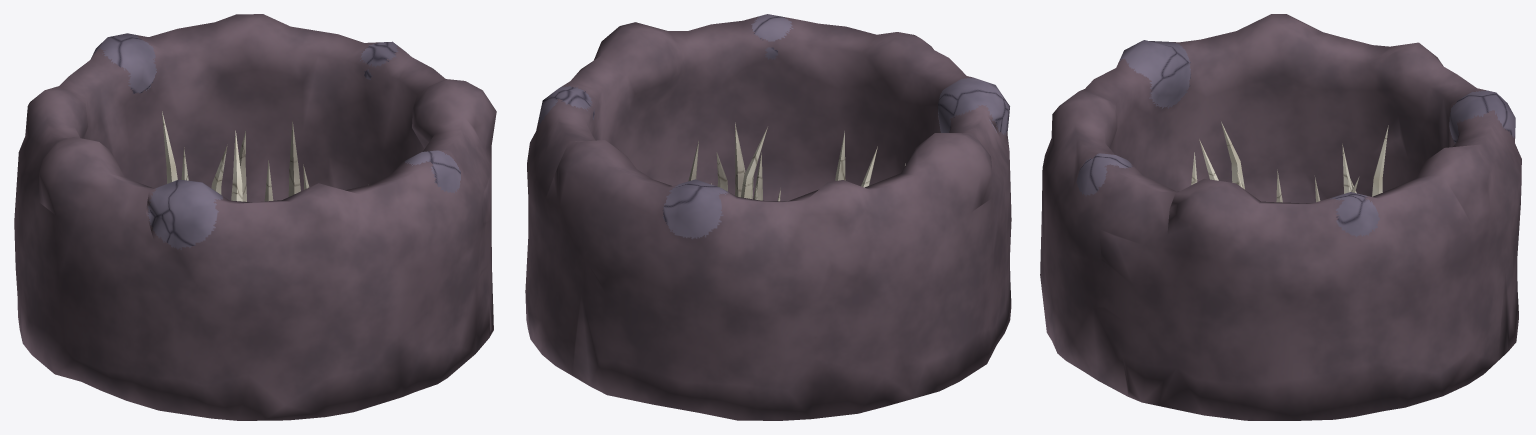
Rendered from trampa_foso.fbx.
3 renders of one model, left to right at view 1: azimuth 30°, elevation 25°; view 2: azimuth 150°, elevation 25°; view 3: azimuth 270°, elevation 25°, orthographic. The views are drawn at different scales.
Visible parts, largest first — view 1: foso; view 2: foso; view 3: foso.
Boxes of the visible parts, box(x1,y1,x2,y2) form: foso: box(14, 14, 496, 420); foso: box(525, 14, 1011, 420); foso: box(1040, 14, 1521, 420).
Bounding box in the file's own units: 4 × 2.01 × 4.
1 material, 1 textured.
